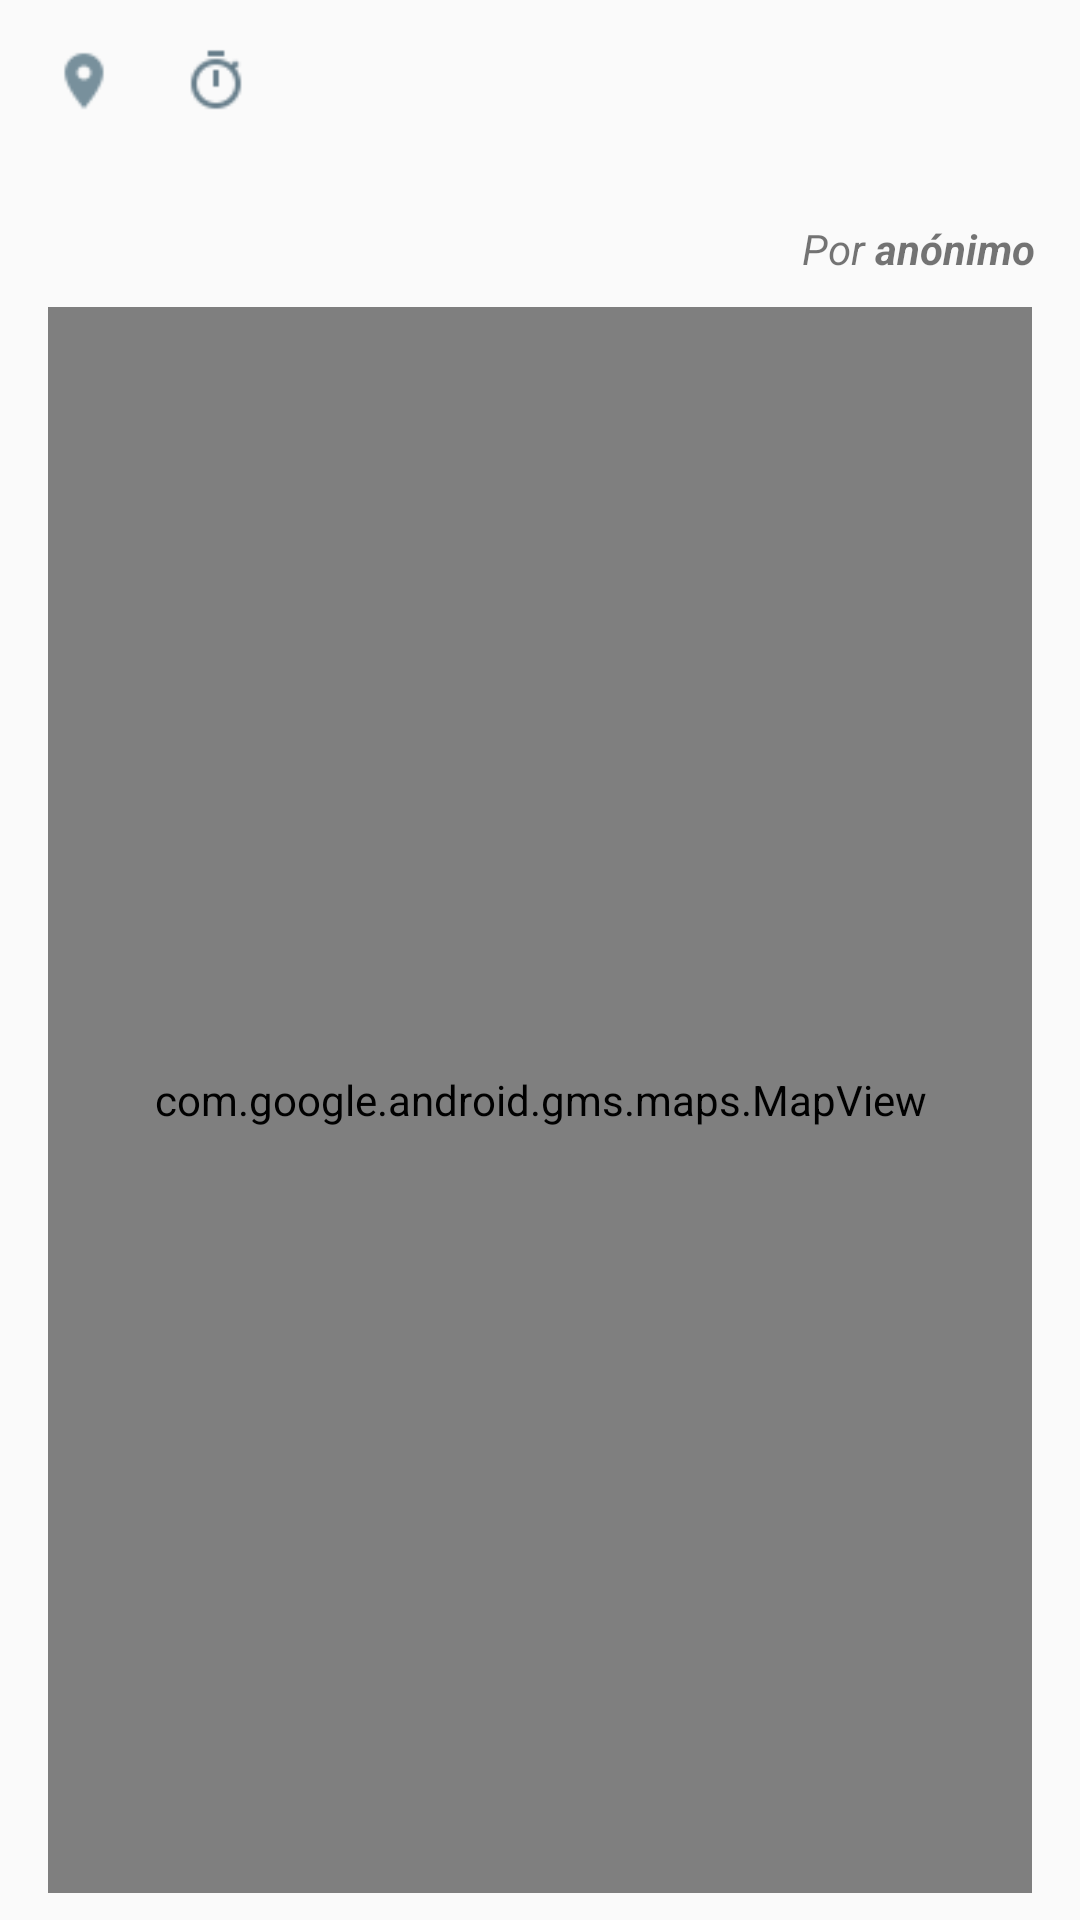

Screen size 1080w x 1920h. Icon name, then its center in pixels as (x=x, y=y):
report location: (x=84, y=81)
timer: (x=216, y=79)
